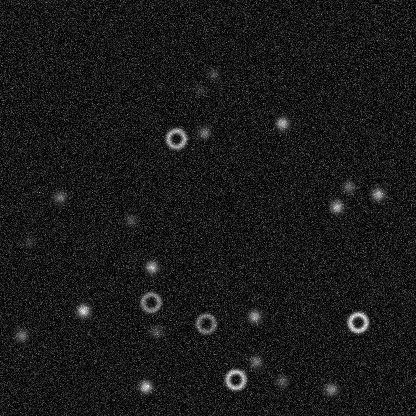Ring: (164, 126, 188, 150), (193, 311, 217, 335), (223, 367, 247, 391), (138, 290, 162, 314), (345, 310, 369, 334)
Spot: (273, 373, 289, 389), (143, 258, 159, 274), (137, 378, 153, 394), (205, 65, 221, 81), (247, 353, 263, 369), (191, 81, 207, 97), (246, 308, 262, 324), (196, 124, 212, 140), (340, 178, 356, 194), (51, 189, 67, 205), (122, 212, 138, 228), (75, 302, 91, 318), (274, 115, 290, 131), (20, 233, 36, 249), (13, 327, 29, 343), (147, 323, 163, 339), (322, 381, 338, 397), (328, 198, 344, 214), (369, 186, 385, 202)
